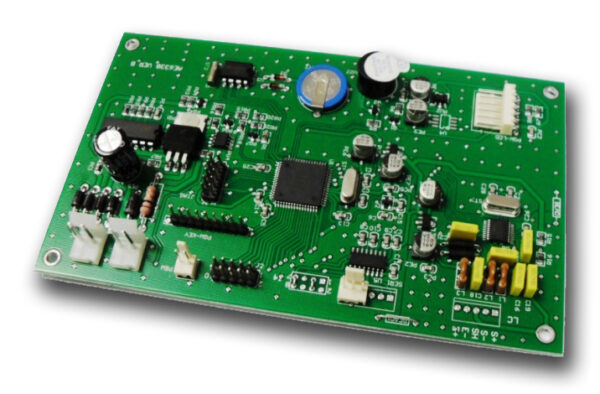capacitor: (91, 122, 153, 190)
